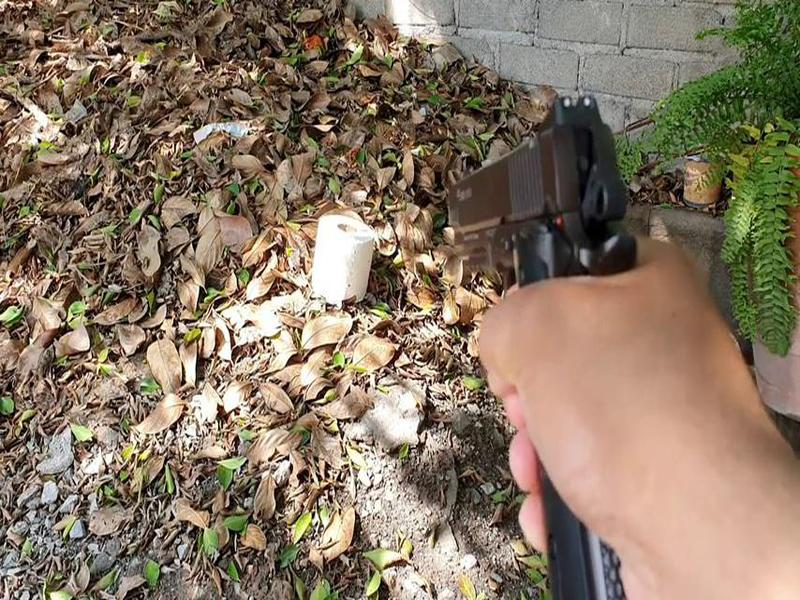Pistola: (432, 83, 653, 344)
